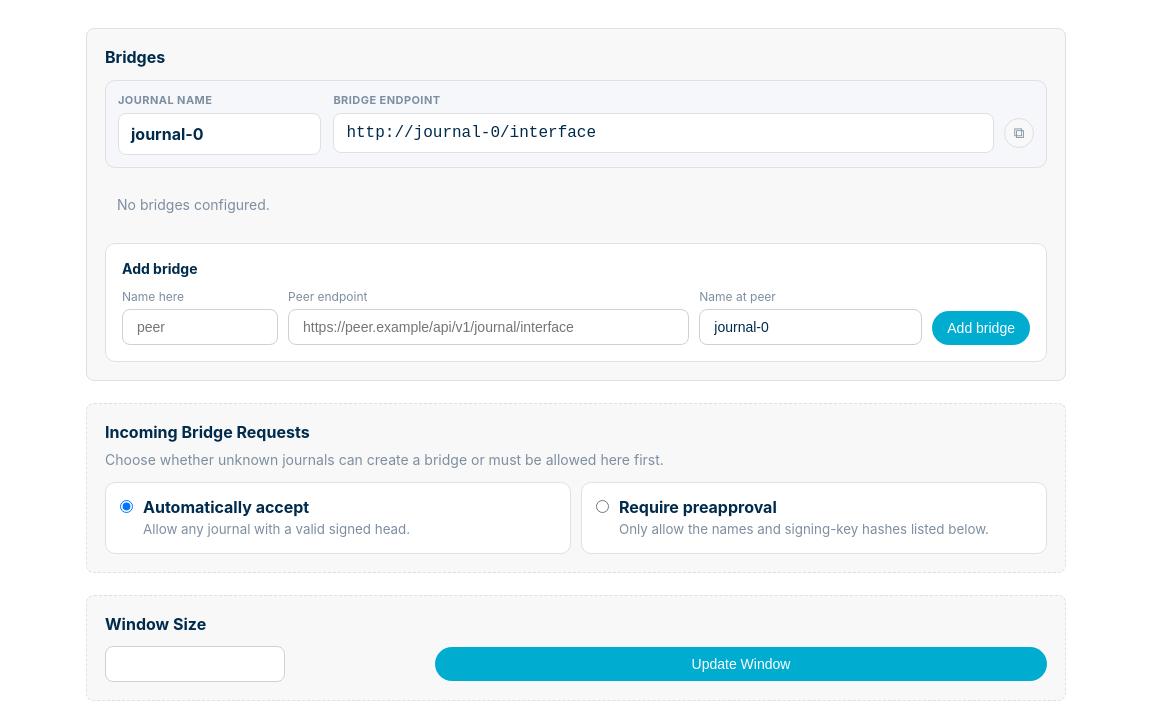
it: AdminPanel › refuses a window change when the authoritative current size is unknown
Type "2" into the number field.
click(195, 664); type("2")  # box [105,646,285,682]
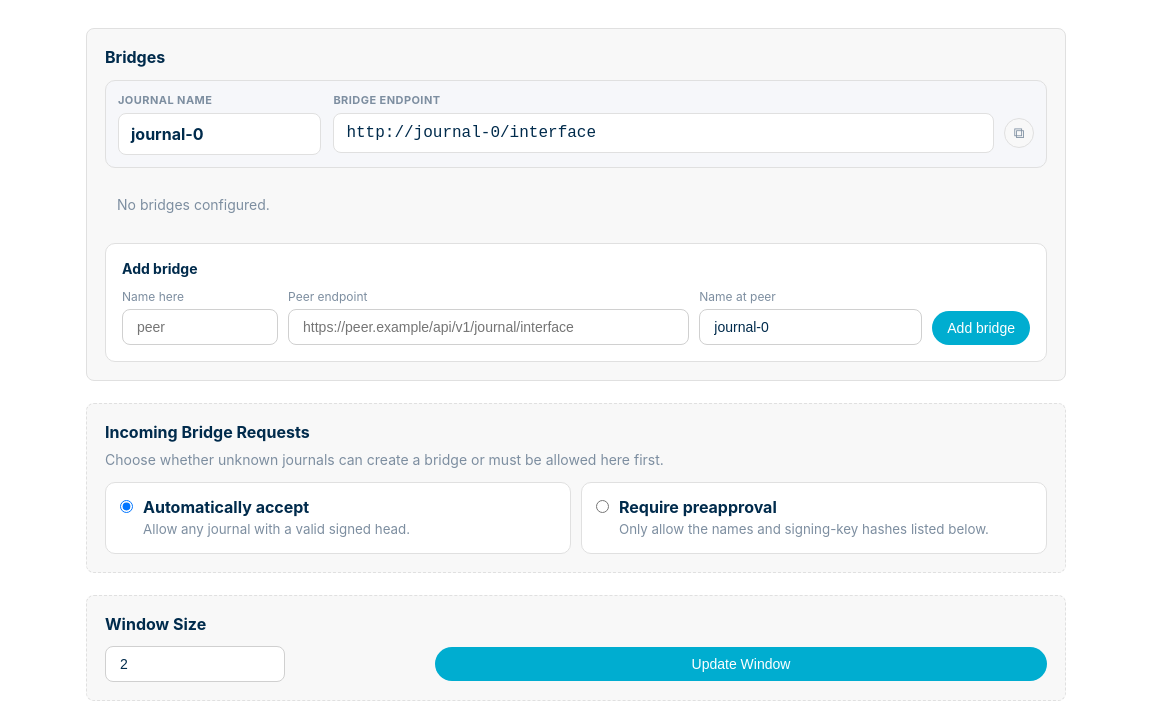
Click the button "Update Window".
click(741, 664)  # box [435,647,1047,681]
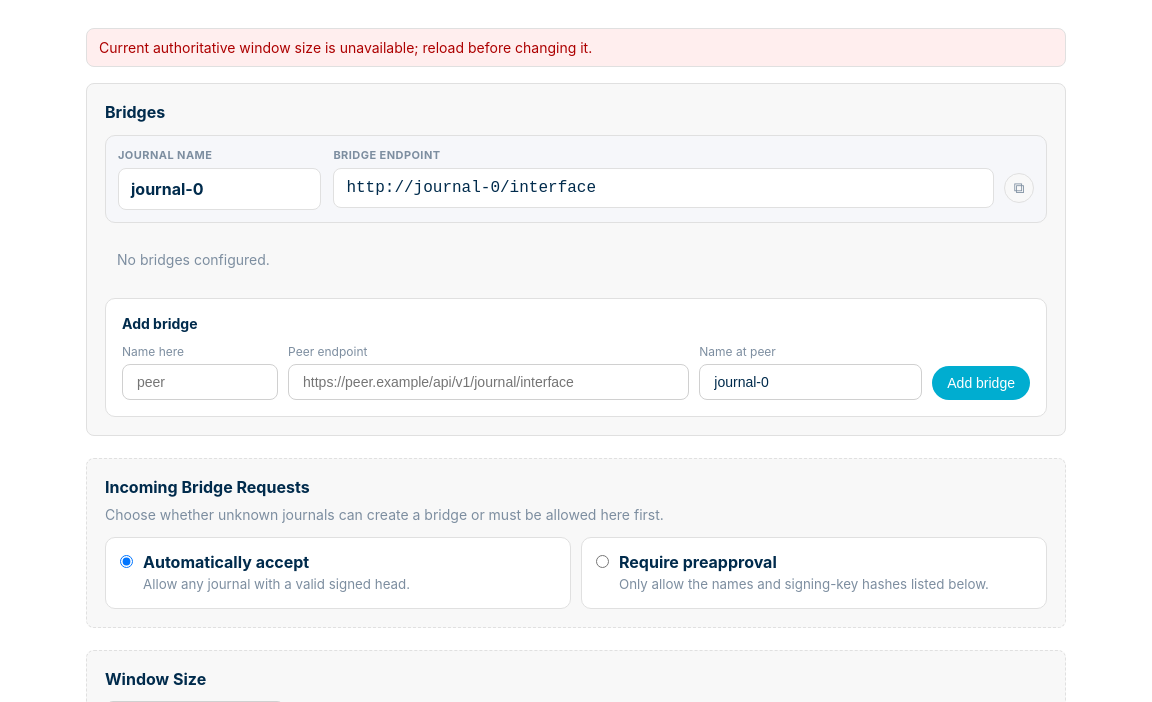
Result: the text "Current authoritative window size is unavailable; reload before changing it." is shown at [86,28,1066,67]
